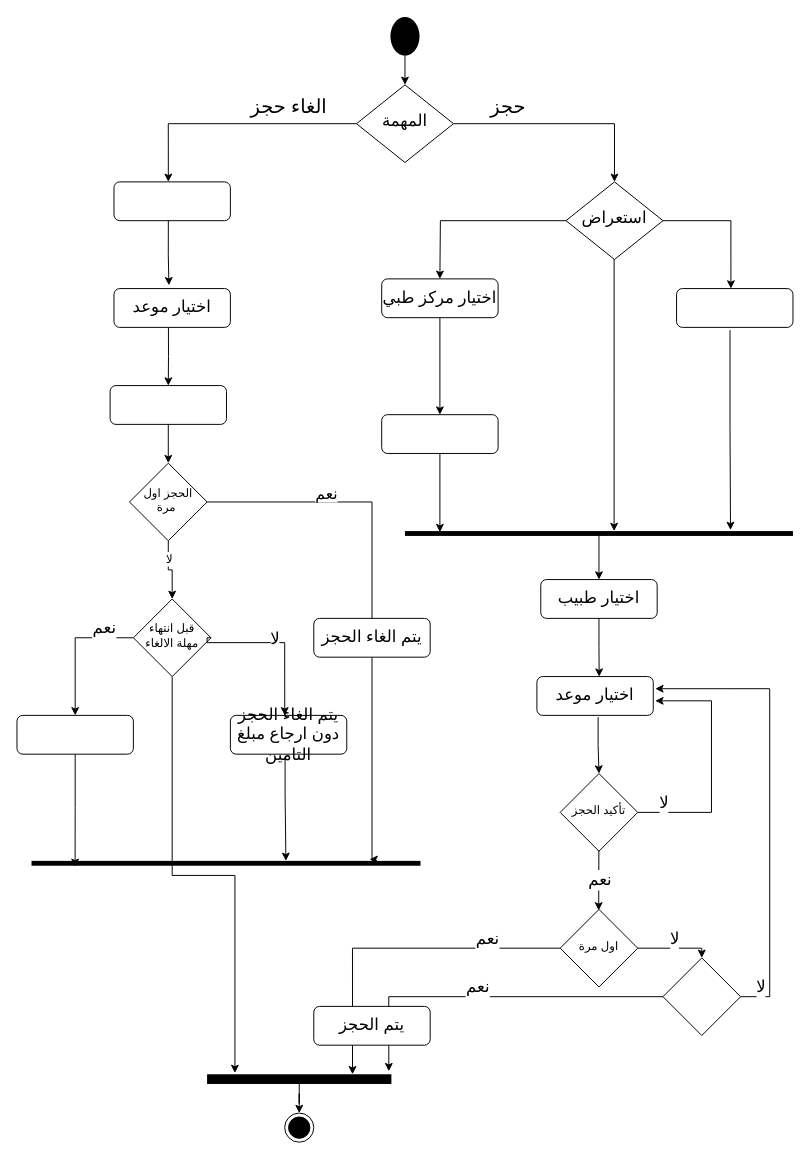
Image size: 810x1159. Some labels were removed from this diagram. The centre of each missing label's shape, as x and y in pixels:
"اختيار عيادة" goes at [734,307].
"اختيار قسم" goes at [439,433].
"استعراض المواعيد" goes at [171,201].
"حذف موعد" goes at [167,404].
"يتم الغاء الحجز و ارجاع مبلغ التامين" goes at [74,734].
"يملك نقود" goes at [701,996].
